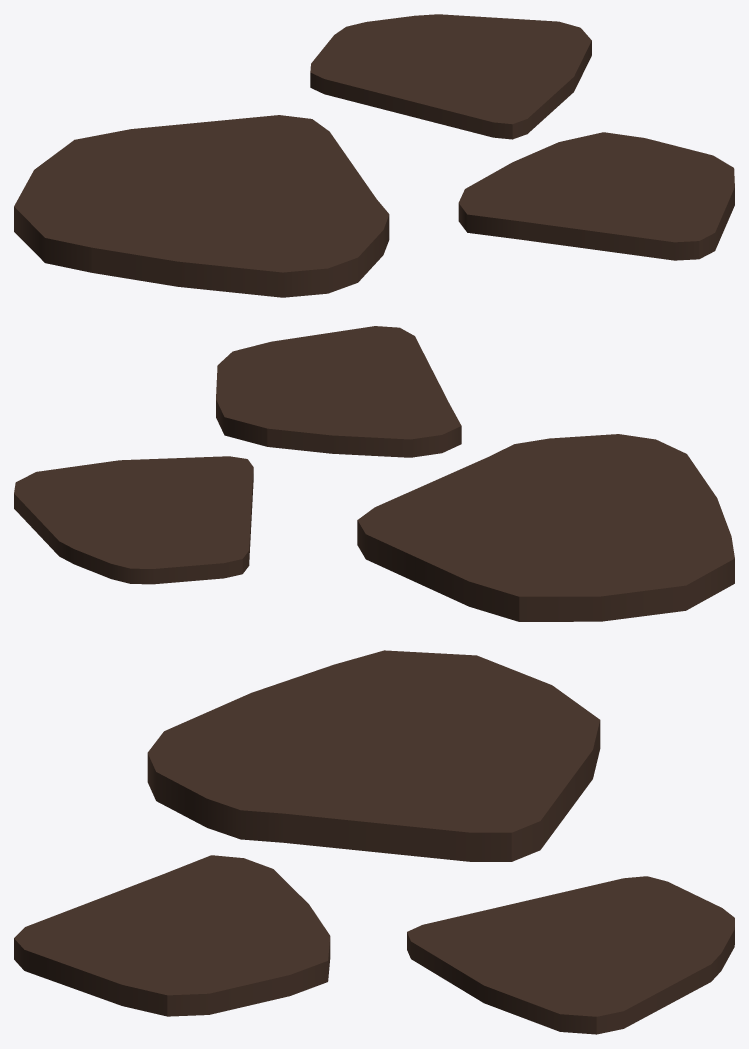
Rendered from Tile03.fbx.
3 views of the same model, one above another, from view 1: azimuth 30°, elevation 25°; view 2: azimuth 150°, elevation 25°; view 3: azimuth 270°, elevation 25° (orthographic). The views are drawn at different scales.
Visible parts, largest first — view 1: Tile03; view 2: Tile03; view 3: Tile03.
Part boxes in pixels (x1,y1,x2,y2): Tile03: [14, 14, 734, 297]; Tile03: [14, 326, 734, 621]; Tile03: [14, 650, 734, 1034].
Bounding box in the file's own units: 69.7 × 2.68 × 59.85.
